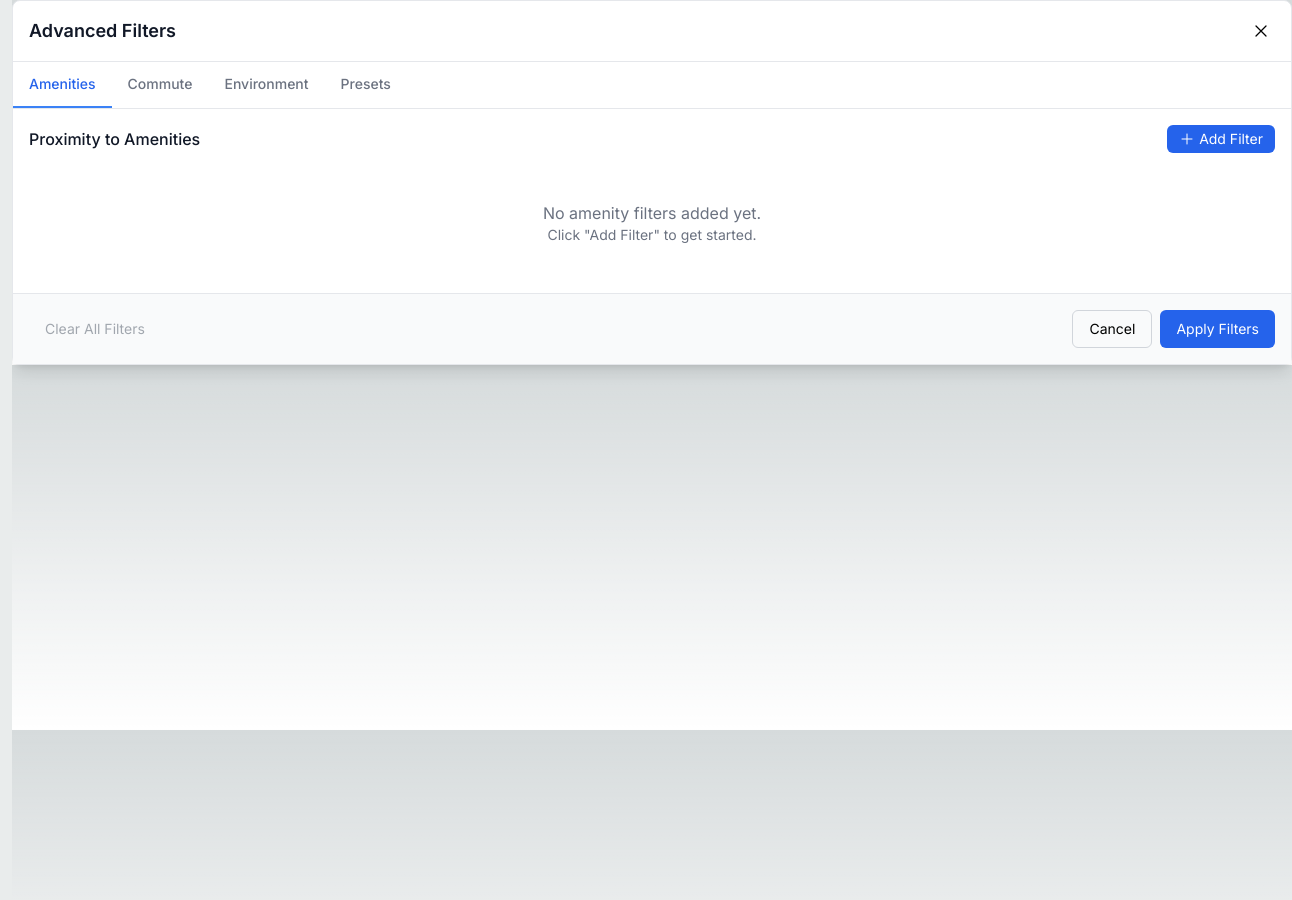
Test: AdvancedFilters › Commute Filters › shows empty state when no commute filters exist
Click the button with test id "tab-commute". click: (160, 85)
box: [112,62,208,108]
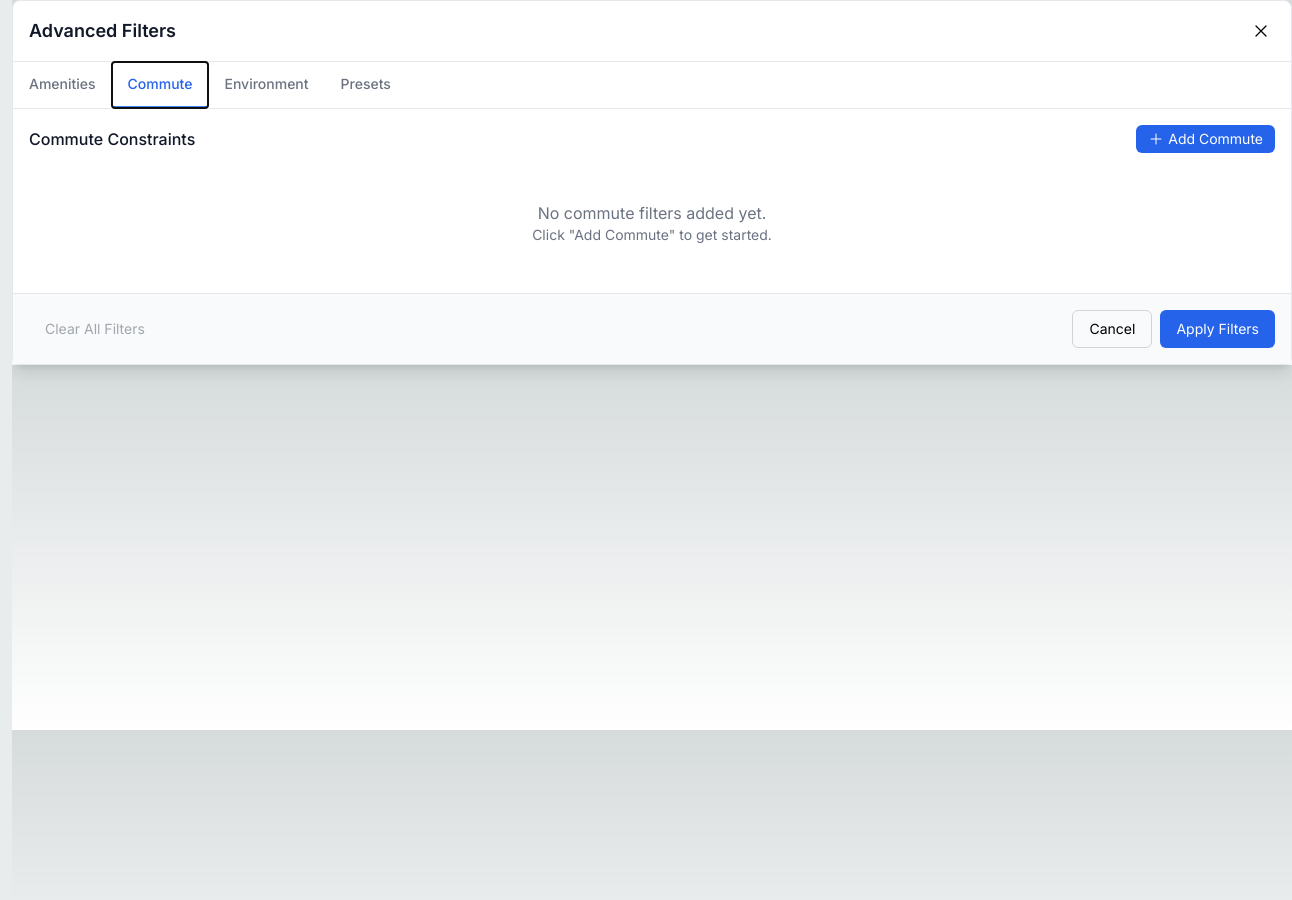
Result: the text "No commute filters added yet." is shown at [538,203,766,223]
